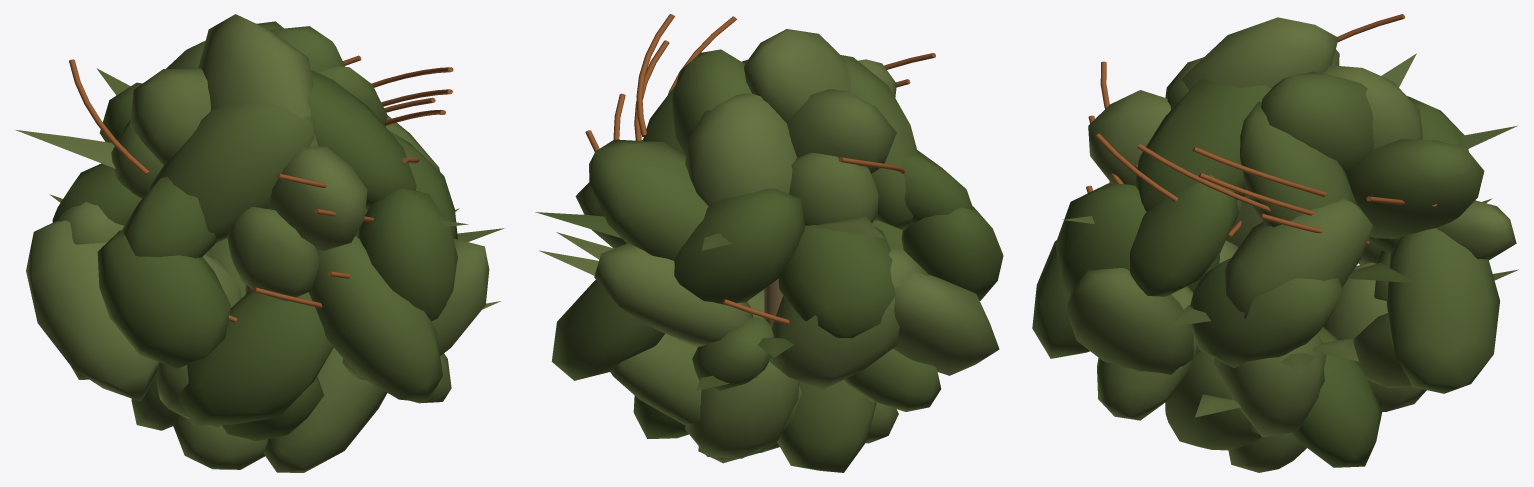
Rendered from bud_5.glb.
3 views of the same model, side by side, from view 1: azimuth 30°, elevation 25°; view 2: azimuth 150°, elevation 25°; view 3: azimuth 270°, elevation 25° (orthographic).
Visible parts, largest first — view 1: Bud_5; view 2: Bud_5; view 3: Bud_5.
Part boxes in pixels (left/top/right/bottom): Bud_5: left=15, top=14, right=504, bottom=472; Bud_5: left=535, top=14, right=1003, bottom=472; Bud_5: left=1032, top=14, right=1518, bottom=472.
Size of the model in its own units: 0.00559 by 0.00545 by 0.00557.
